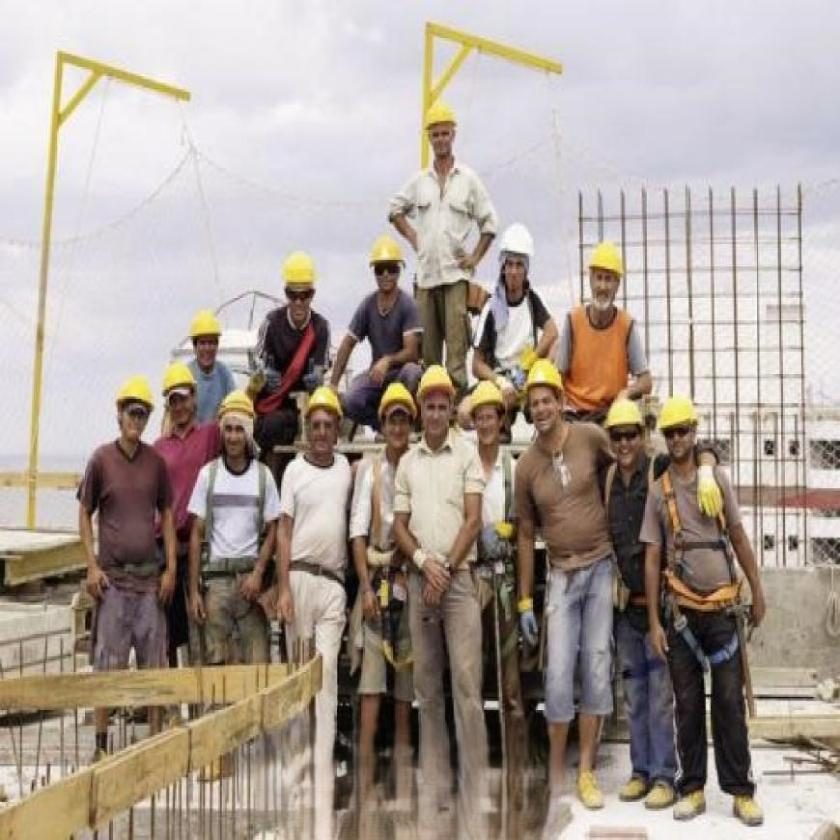Con_casco: (488, 212, 541, 319), (517, 352, 588, 430), (209, 388, 268, 477), (420, 94, 478, 179), (108, 357, 156, 457), (461, 367, 514, 456), (414, 366, 460, 463), (292, 388, 352, 460), (656, 381, 701, 471), (601, 387, 647, 473), (583, 237, 627, 323), (181, 294, 228, 372), (285, 240, 323, 330), (376, 373, 412, 454), (165, 358, 207, 426), (369, 229, 399, 298)
